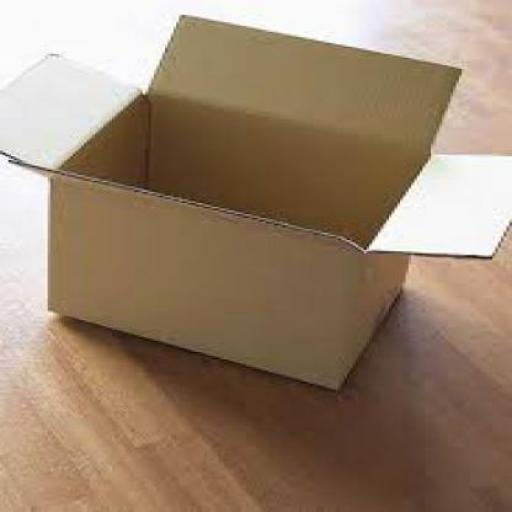cardboard: (0, 13, 510, 387)
